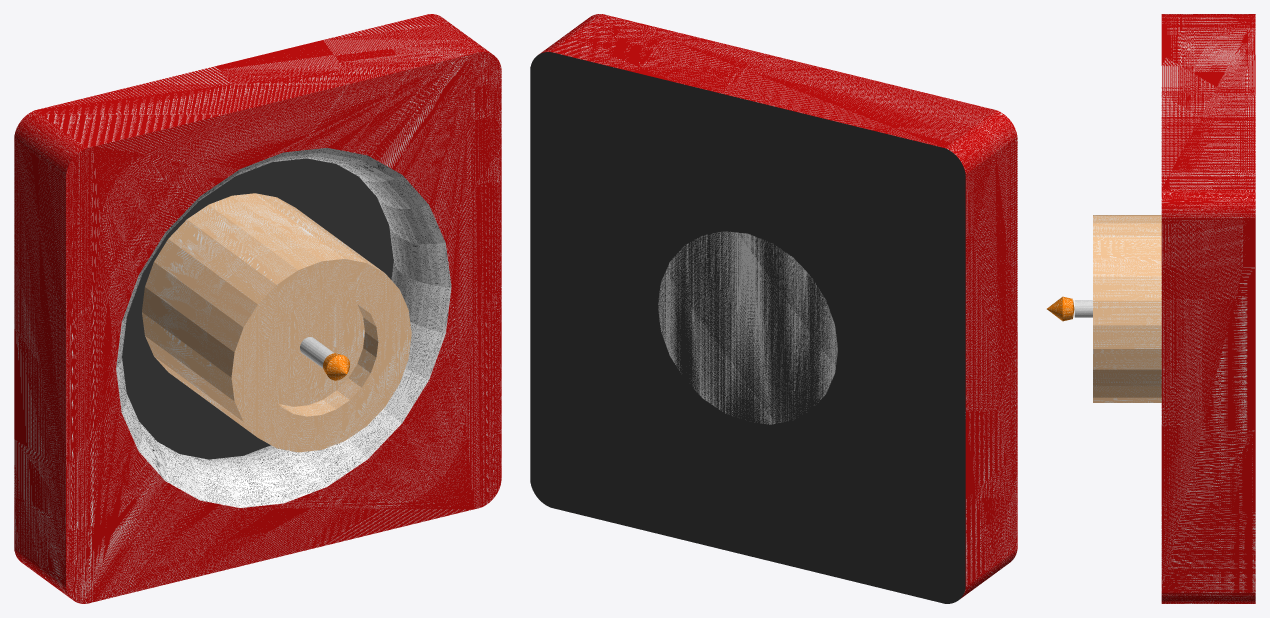
3 renders of one model, left to right at view 1: azimuth 30°, elevation 25°; view 2: azimuth 150°, elevation 25°; view 3: azimuth 270°, elevation 25°, orthographic. The views are drawn at different scales.
Visible parts, largest first — view 1: vanilla candle w cup modern do not eat candle; view 2: vanilla candle w cup modern do not eat candle; view 3: vanilla candle w cup modern do not eat candle.
Part boxes in pixels (x1=…): vanilla candle w cup modern do not eat candle: x1=14, y1=14, x2=501, y2=603; vanilla candle w cup modern do not eat candle: x1=530, y1=14, x2=1017, y2=603; vanilla candle w cup modern do not eat candle: x1=1047, y1=14, x2=1255, y2=603.
Bounding box in the file's own units: 7.68 × 7.68 × 3.52.
